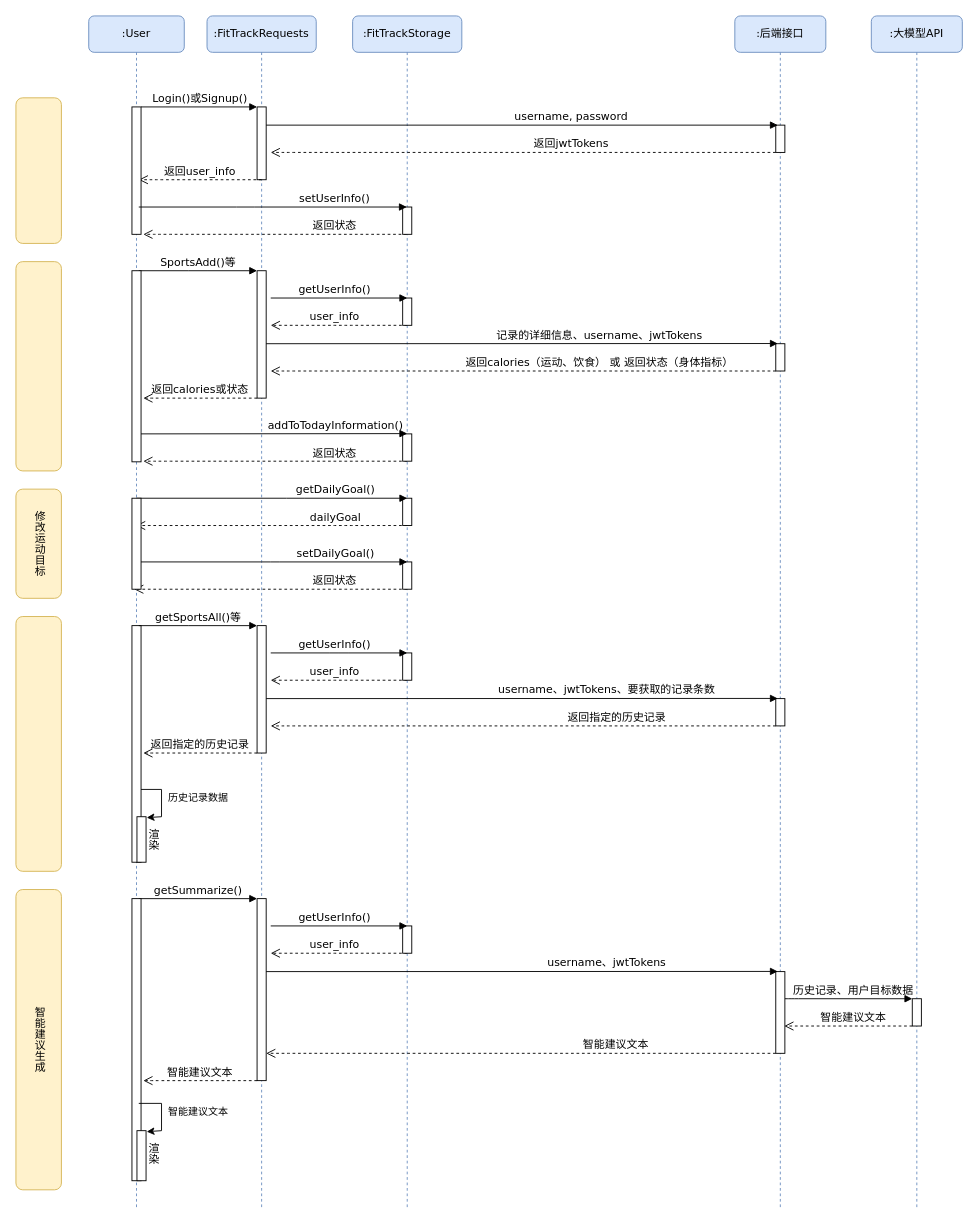
The diagram is 978 pixels wide and 1224 high, and some of its shapes have lost their labels. The shapes that lost their labels are listed below. From the top down, each one's box as (x1, y1, x2, y2) in pixels, then its label:
(15, 97, 61, 243): 登录及注册
(15, 261, 61, 471): 添加新记录
(15, 616, 61, 871): 查看历史记录
